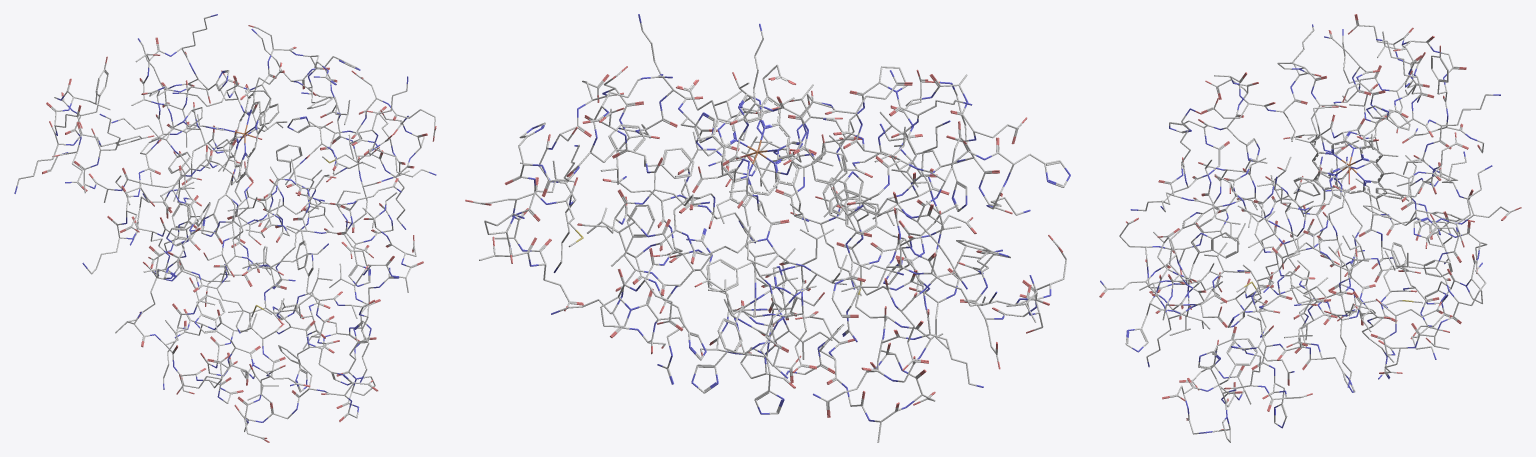
Rendered from 1mbn__lines__default.glb.
3 renders of one model, left to right at view 1: azimuth 30°, elevation 25°; view 2: azimuth 150°, elevation 25°; view 3: azimuth 270°, elevation 25°, orthographic. The views are drawn at different scales.
Parts seen in each view (by area): view 1: Renderer Node; view 2: Renderer Node; view 3: Renderer Node.
Part boxes in pixels (bbox=[...]): Renderer Node: bbox=[14, 14, 436, 442]; Renderer Node: bbox=[465, 14, 1070, 442]; Renderer Node: bbox=[1099, 14, 1521, 442].
Size of the model in its own units: 42.81 by 38.98 by 39.04.
